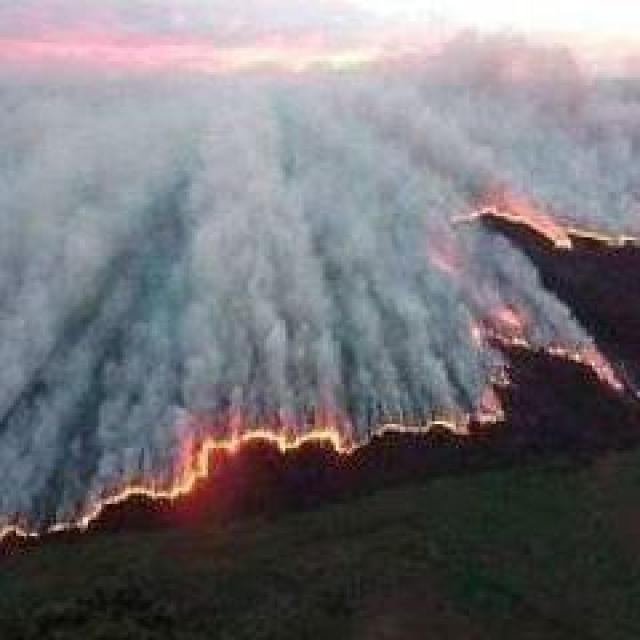Fire: (491, 160, 640, 386), (0, 434, 196, 554), (243, 382, 494, 448)
Smoke: (0, 48, 483, 334)
